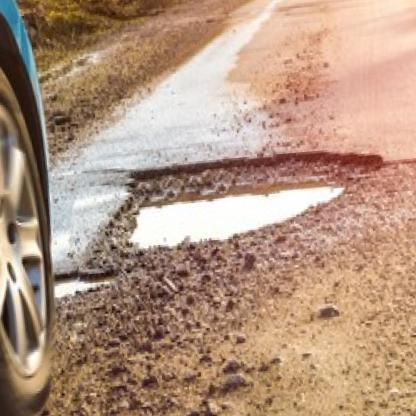pothole: (92, 140, 388, 265)
